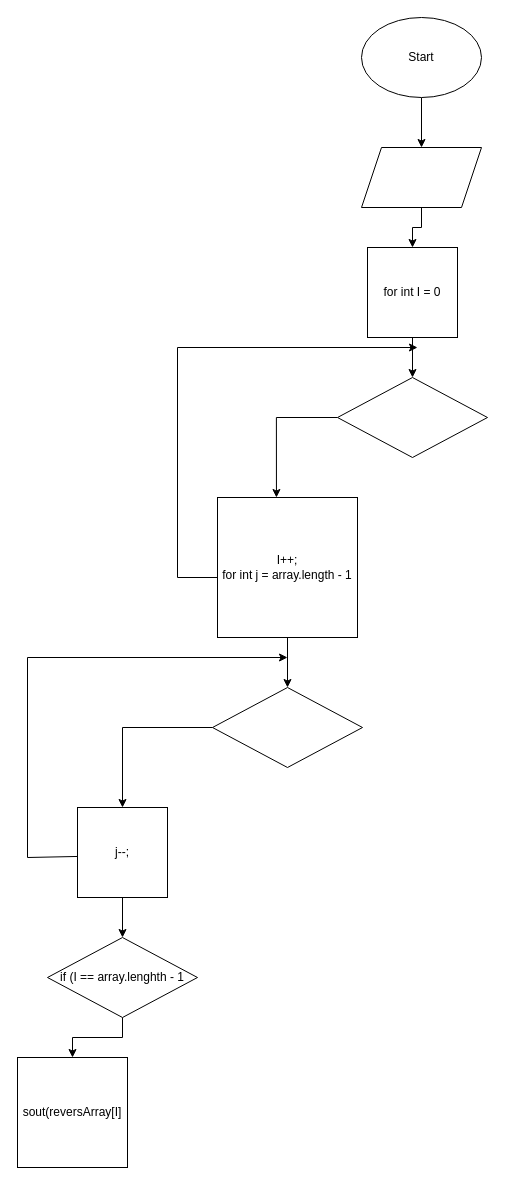
The diagram is 505 pixels wide and 1185 high, and some of its shapes have lost their labels. The centre of each missing label's shape, as x and y in pixels:
"I < array.length" goes at pixel 412 417.
"int[] array int[] reversArray" goes at pixel 421 177.
"j >= 0" goes at pixel 287 727.
